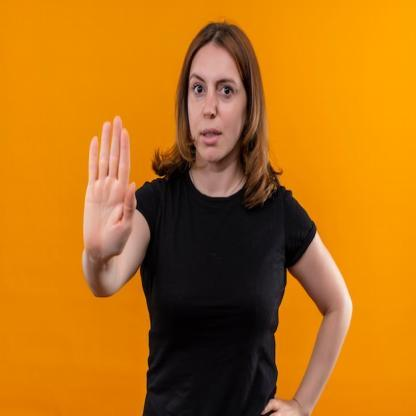stop: (80, 110, 138, 260)
